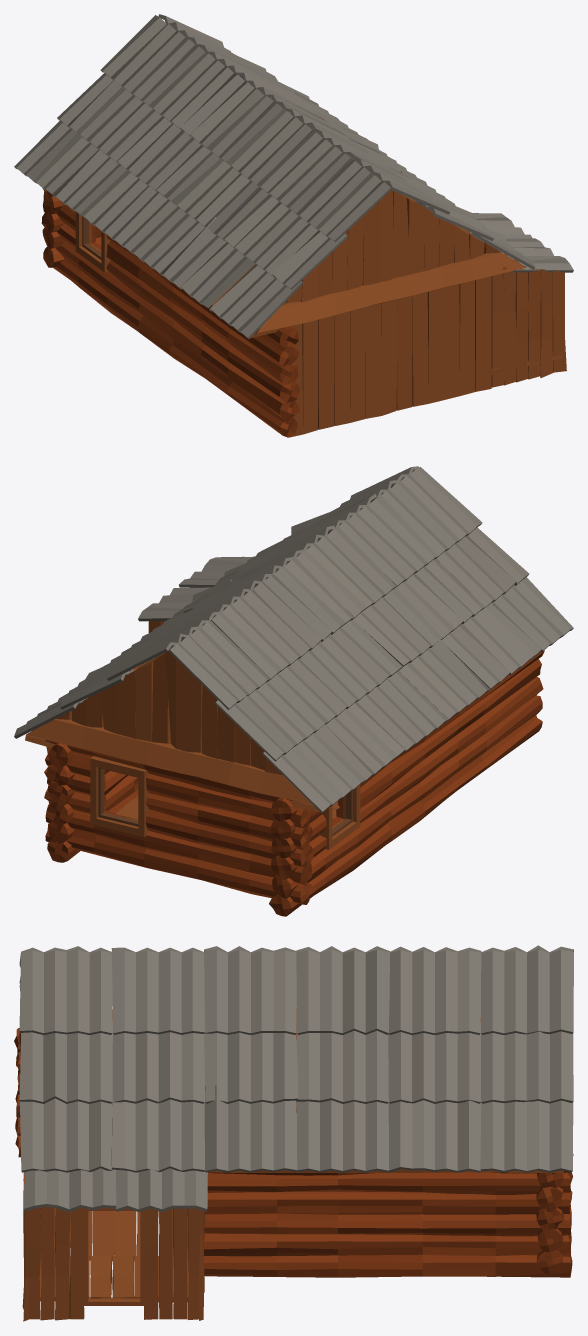
The model's file is будівля 2.fbx.
3 views of the same model, one above another, from view 1: azimuth 30°, elevation 25°; view 2: azimuth 150°, elevation 25°; view 3: azimuth 270°, elevation 25° (orthographic). The views are drawn at different scales.
Parts seen in each view (by area): view 1: будинок 2; view 2: будинок 2; view 3: будинок 2.
Boxes of the visible parts, bbox=[...] form: будинок 2: bbox=[14, 14, 573, 437]; будинок 2: bbox=[14, 466, 573, 916]; будинок 2: bbox=[14, 945, 573, 1321].
Size of what is drawn, in the model's own units: 5953 by 3975 by 7375.
